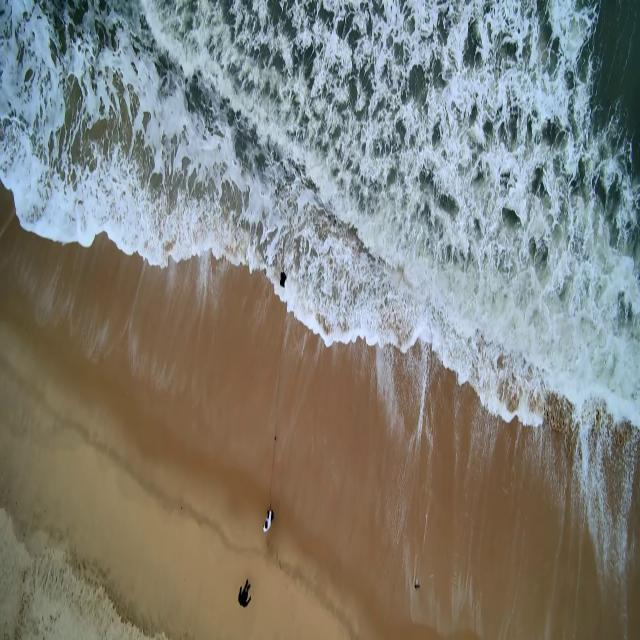dummy: (280, 264, 290, 288)
